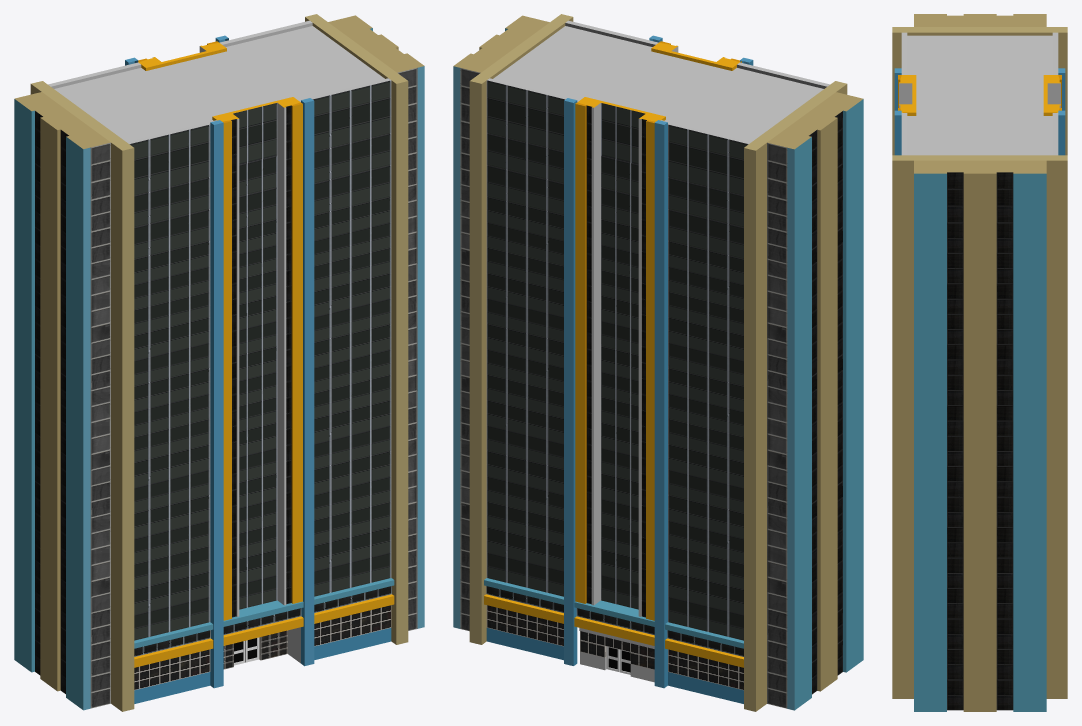
The picture shows the model from 3 angles, left to right: view 1: azimuth 30°, elevation 25°; view 2: azimuth 150°, elevation 25°; view 3: azimuth 270°, elevation 25°; orthographic projection. The views are drawn at different scales.
Visible parts, largest first — view 1: Building; view 2: Building; view 3: Building.
Boxes of the visible parts, left/top/right/bottom form: Building: left=14, top=14, right=424, bottom=711; Building: left=453, top=14, right=863, bottom=711; Building: left=892, top=14, right=1067, bottom=711.
Size of what is drawn, in the model's own units: 33.73 by 53.2 by 15.67.
